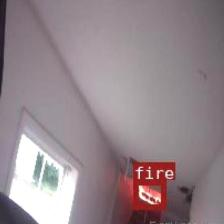fire: (132, 179, 164, 208)
